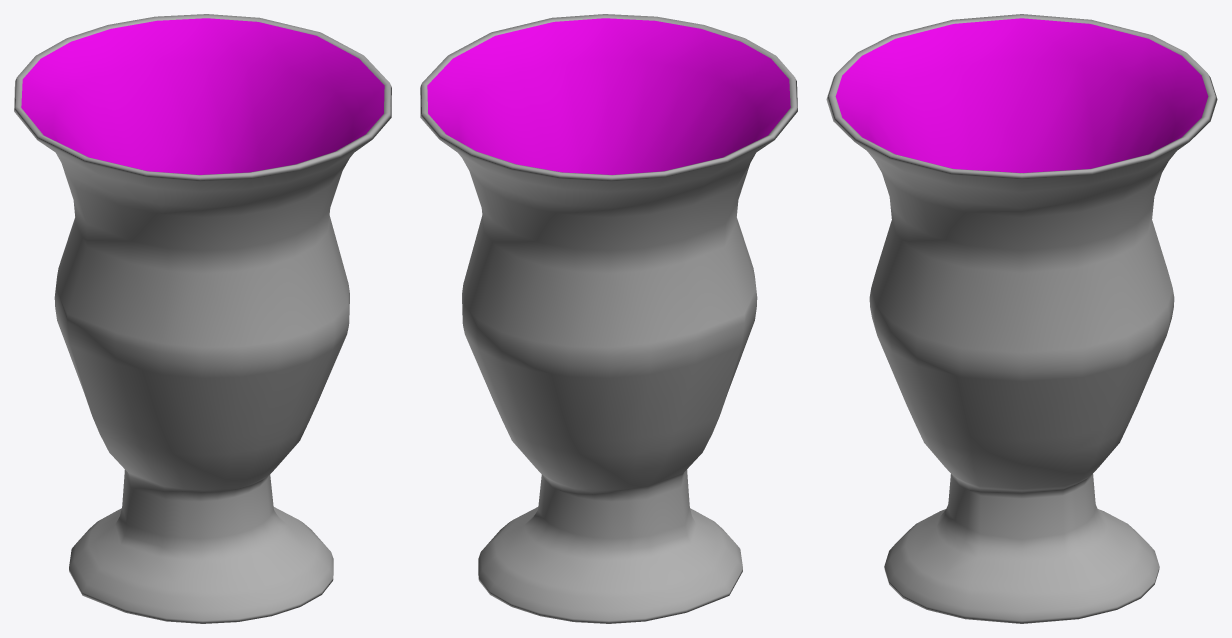
The model's file is Jar_musuem.fbx.
3 views of the same model, side by side, from view 1: azimuth 30°, elevation 25°; view 2: azimuth 150°, elevation 25°; view 3: azimuth 270°, elevation 25° (orthographic).
Visible parts, largest first — view 1: nurbsToPoly4; view 2: nurbsToPoly4; view 3: nurbsToPoly4.
Boxes of the visible parts, x1=… form: nurbsToPoly4: x1=14, y1=14, x2=391, y2=623; nurbsToPoly4: x1=420, y1=14, x2=797, y2=623; nurbsToPoly4: x1=826, y1=14, x2=1217, y2=623.
Size of the model in its own units: 4.2 by 5.77 by 4.3.
